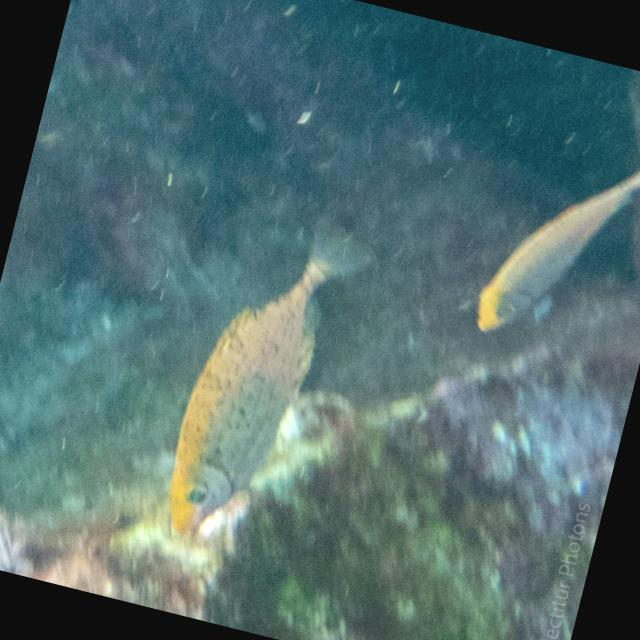Sokar Baligi: (149, 188, 382, 572), (446, 91, 640, 379)
